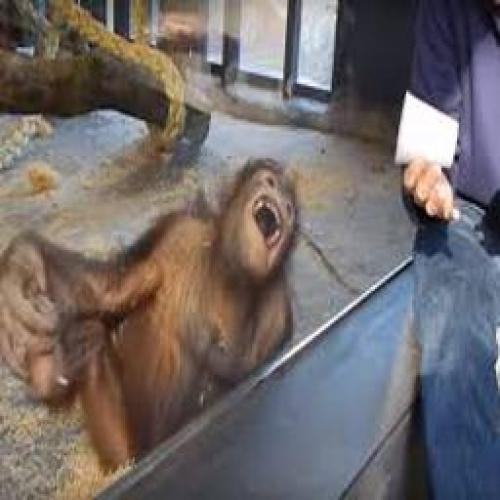orangutan-endangered: (5, 158, 303, 444)
